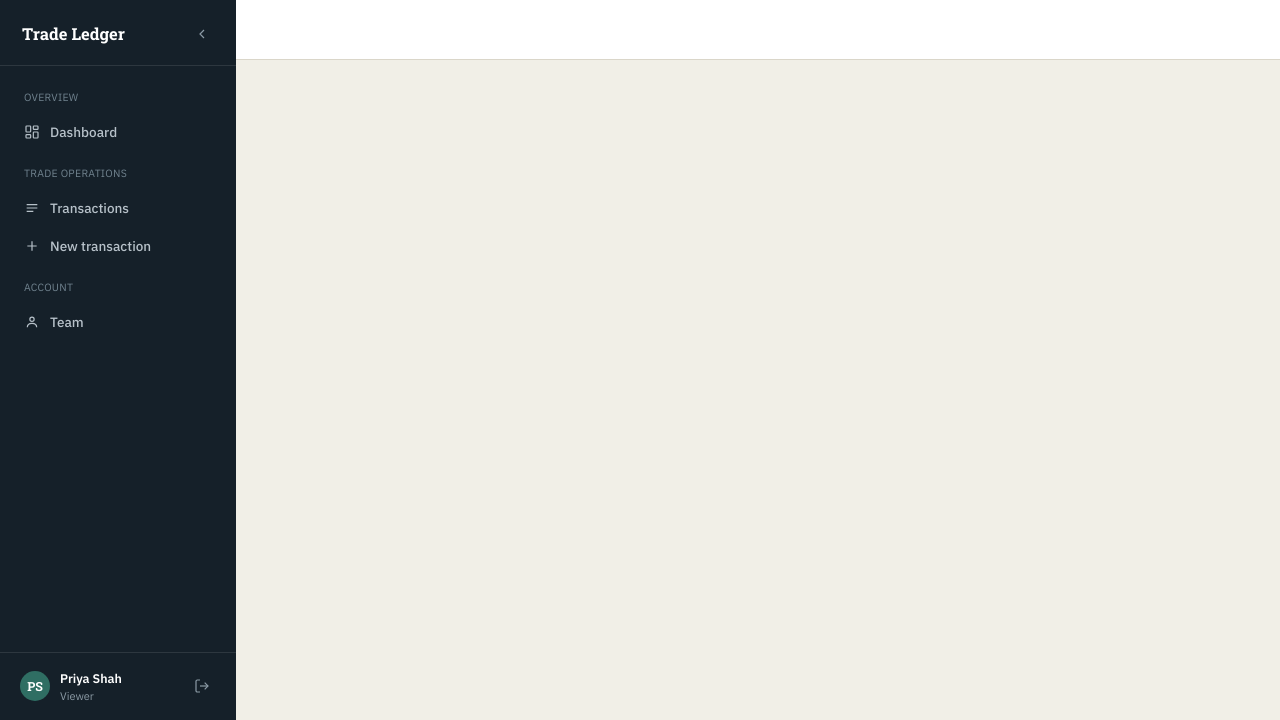
it: AppShell › collapses the sidebar to an icon-only rail and persists the choice
The width and height of the screenshot is (1280, 720).
Expected: the link "Dashboard" is shown, [24, 122, 117, 140]
Click the button named "collapse sidebar": (202, 34) [190, 22, 214, 46]
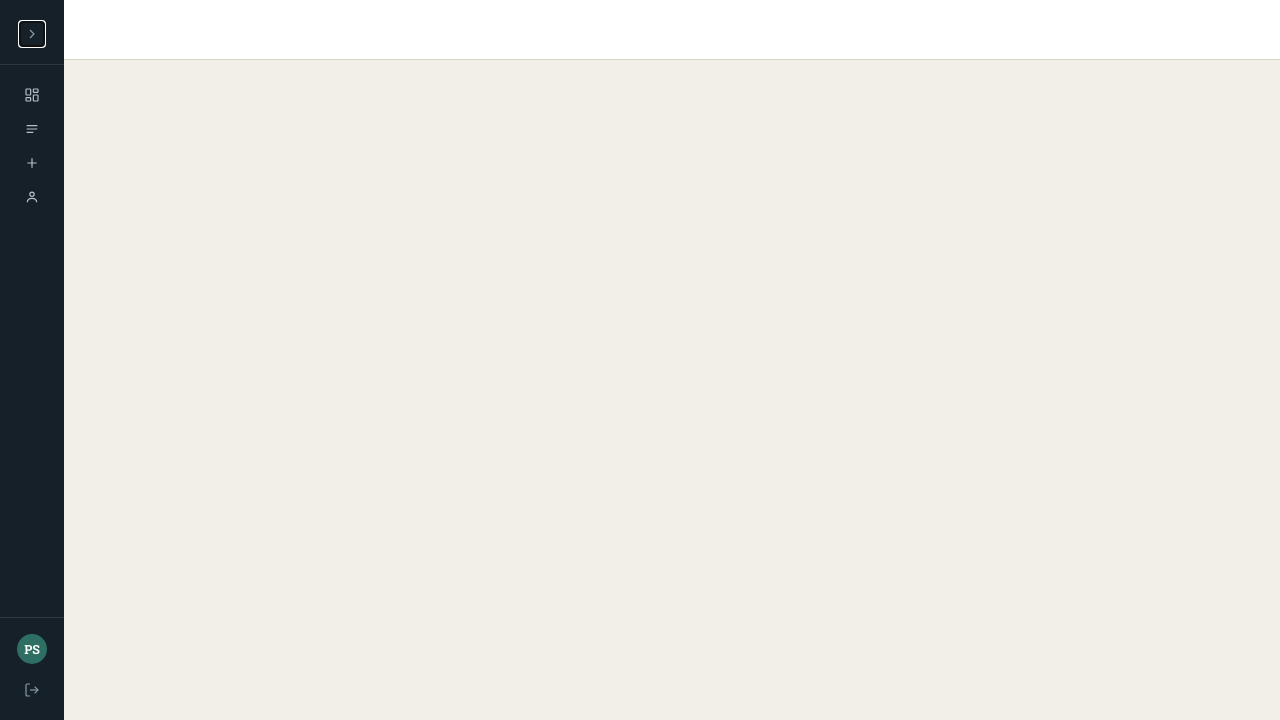
Expected: the link named "Dashboard" is shown, [24, 87, 40, 103]
Now the link "Dashboard" is gone
Now the button named "expand sidebar" is shown, box [20, 22, 44, 46]
